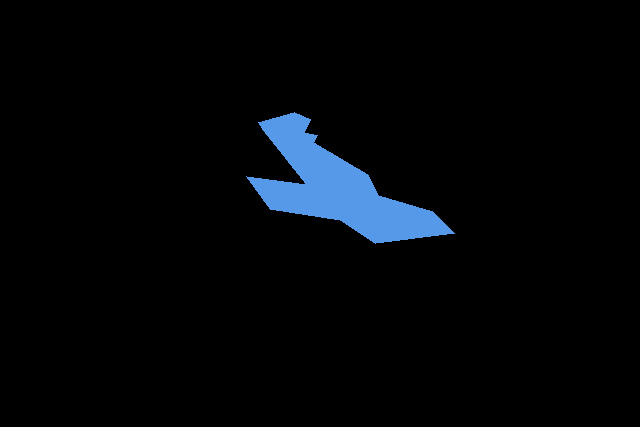Airplane: (246, 112, 455, 243)
